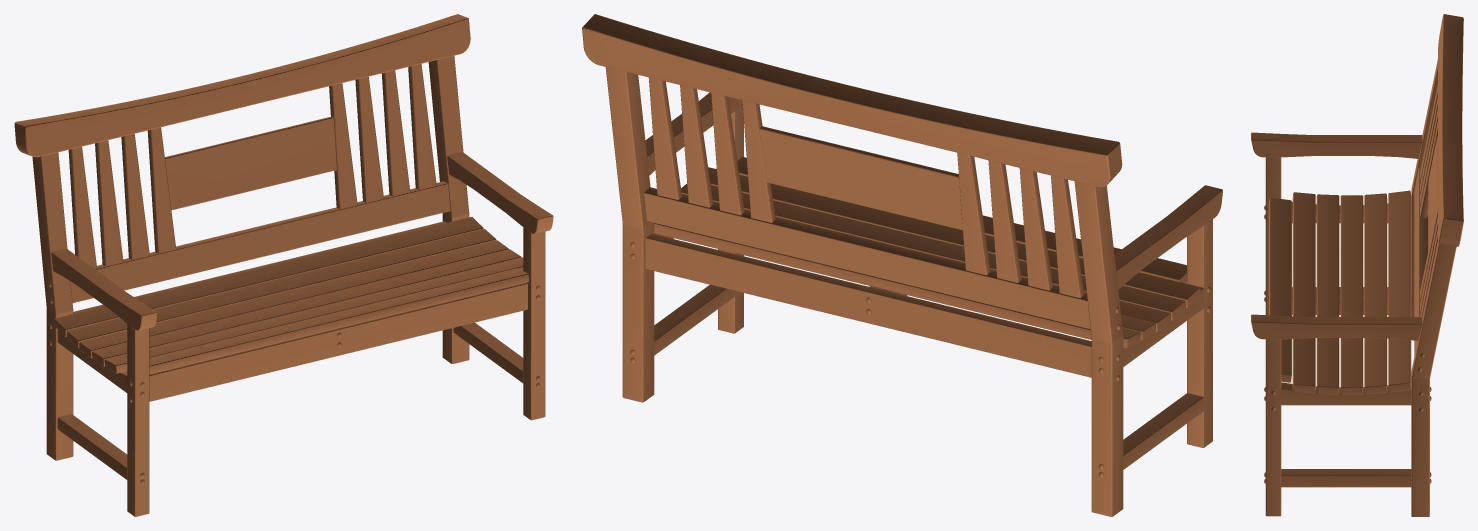
File: bench2.obj
3 renders of one model, left to right at view 1: azimuth 30°, elevation 25°; view 2: azimuth 150°, elevation 25°; view 3: azimuth 270°, elevation 25°, orthographic. The views are drawn at different scales.
Visible parts, largest first — view 1: Bench_0; view 2: Bench_0; view 3: Bench_0.
Boxes of the visible parts, x1,y1,x2,y2 form: Bench_0: [14, 14, 553, 516]; Bench_0: [582, 14, 1222, 516]; Bench_0: [1251, 14, 1463, 516].
Bounding box in the file's own units: 1.3 × 0.9127 × 0.5738.
